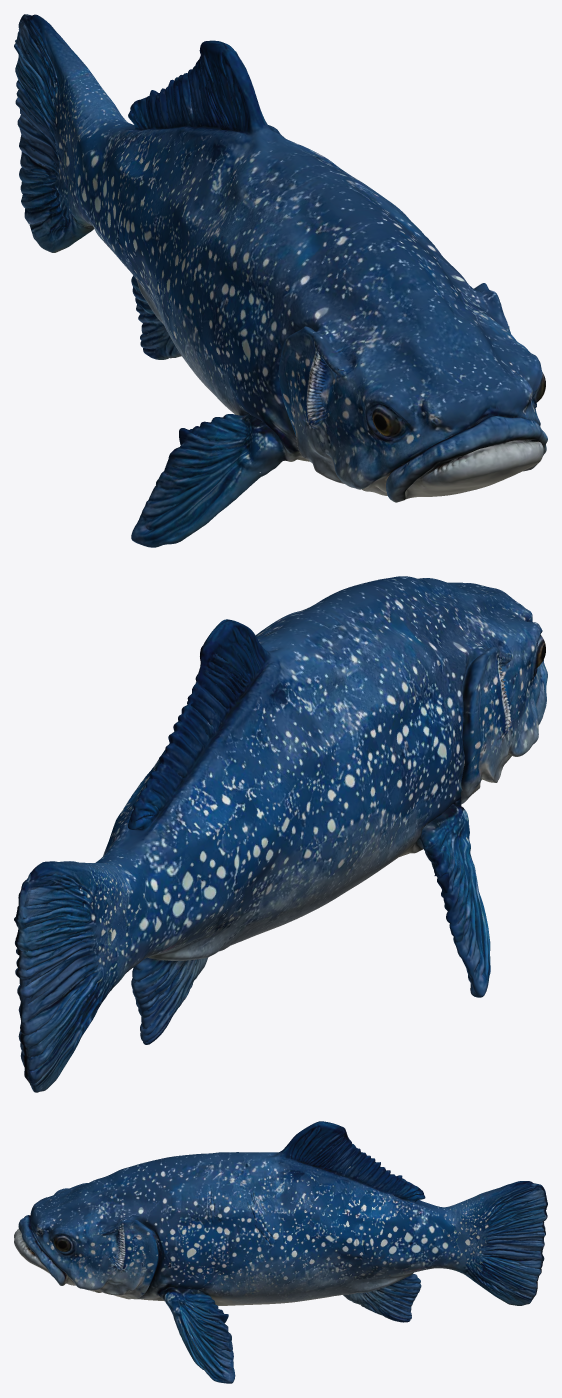
Rendered from coelacanth.glb.
The picture shows the model from 3 angles, top to bottom: view 1: azimuth 30°, elevation 25°; view 2: azimuth 150°, elevation 25°; view 3: azimuth 270°, elevation 25°; orthographic projection. The views are drawn at different scales.
Parts seen in each view (by area): view 1: tripo_node_b05d8d17-b557-4d3f-8c6d-df4a3b6b3b9f; view 2: tripo_node_b05d8d17-b557-4d3f-8c6d-df4a3b6b3b9f; view 3: tripo_node_b05d8d17-b557-4d3f-8c6d-df4a3b6b3b9f.
Part boxes in pixels (x1,y1,x2,y2): tripo_node_b05d8d17-b557-4d3f-8c6d-df4a3b6b3b9f: (14, 14, 547, 547); tripo_node_b05d8d17-b557-4d3f-8c6d-df4a3b6b3b9f: (14, 576, 547, 1092); tripo_node_b05d8d17-b557-4d3f-8c6d-df4a3b6b3b9f: (14, 1121, 547, 1383).
Size of the model in its own units: 0.4094 by 0.438 by 0.9797.
1 material, 1 textured.
